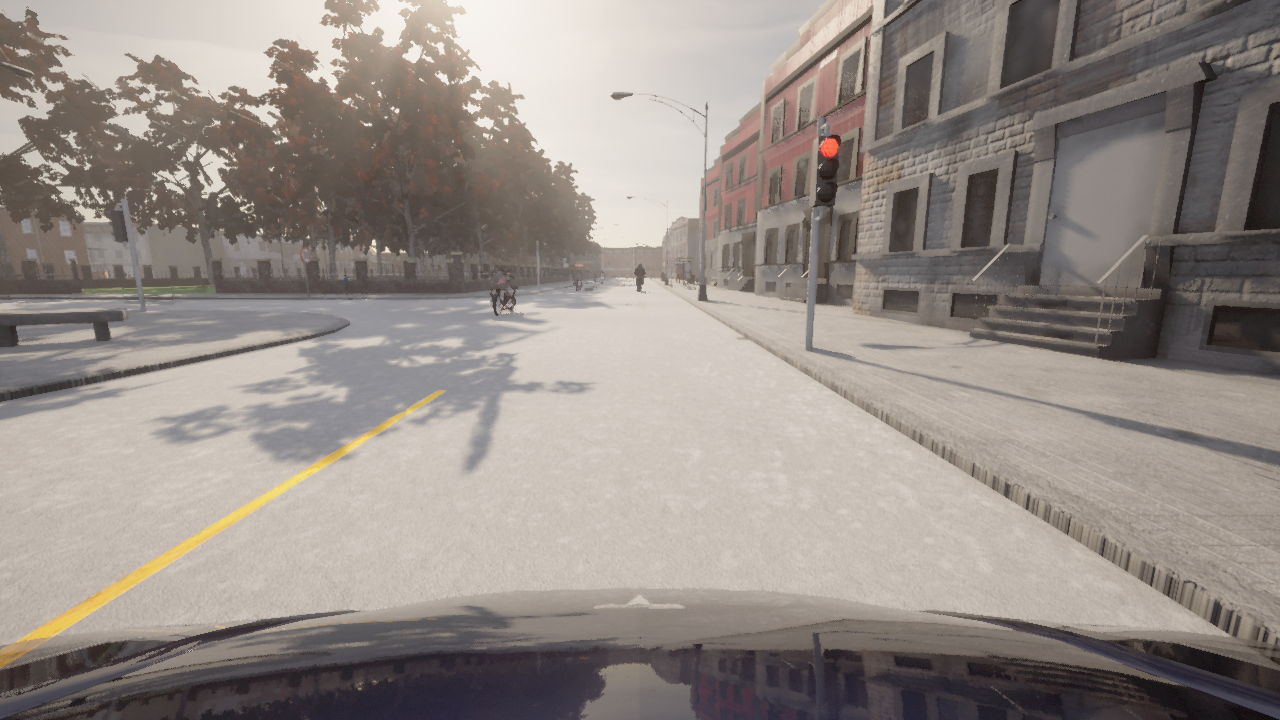cyclist: (0, 588, 1279, 719), (482, 272, 518, 316), (571, 273, 583, 291), (599, 274, 603, 285), (639, 279, 641, 288)
pedestrian: (341, 274, 350, 296), (676, 266, 681, 284), (696, 274, 699, 285)
